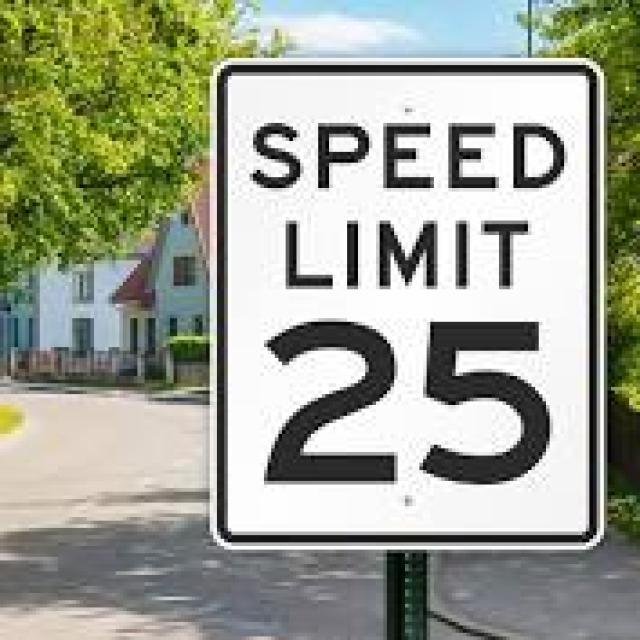speedLimit25: (206, 42, 611, 555)
